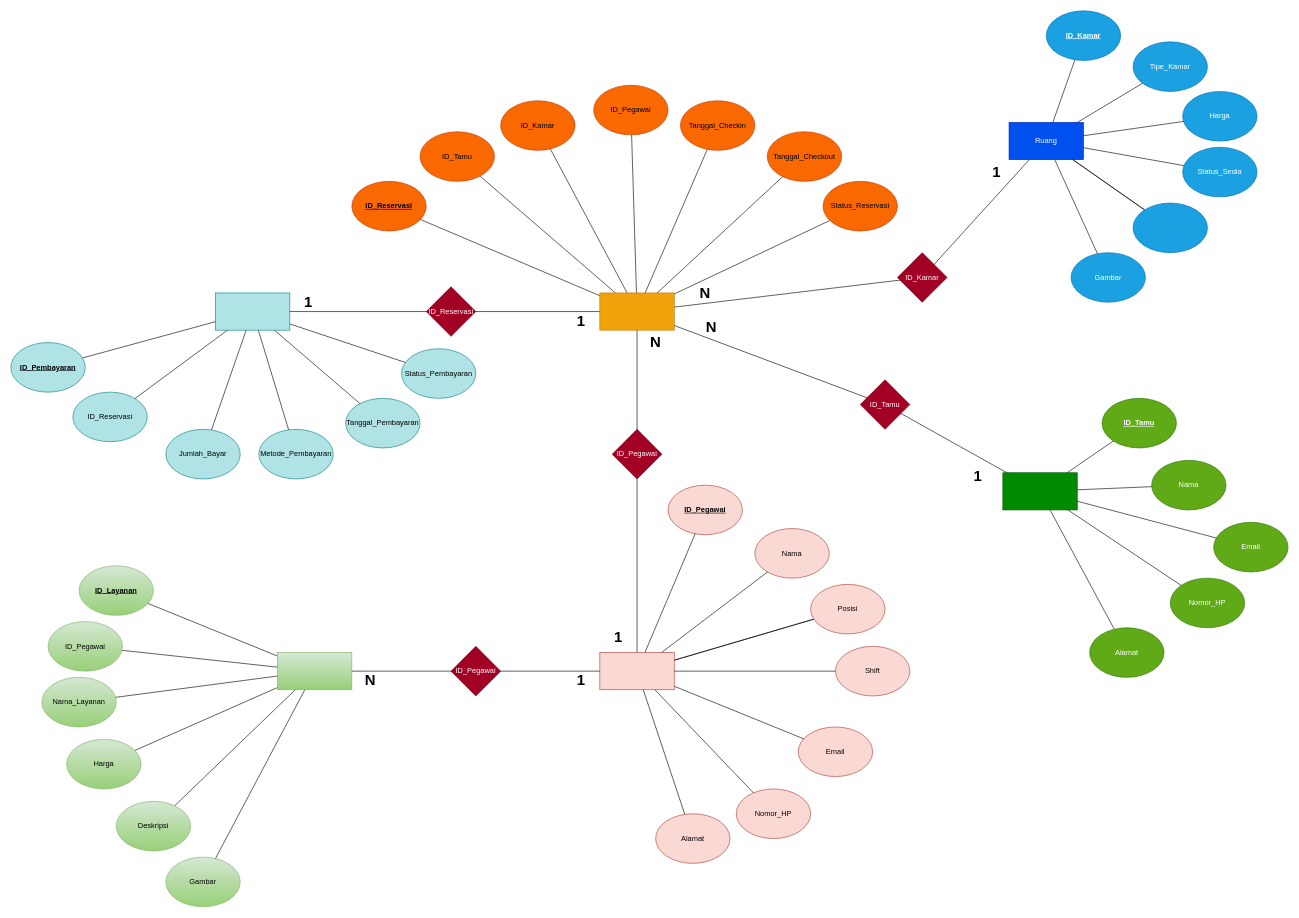
Some shapes in this 1299 by 918 pixel diagram are drawn without their labels. Each missing label, with the box of its shape:
Booking: (599, 292, 674, 330)
Jumlah_Bed: (1132, 202, 1207, 253)
Layanan_Tambahan: (277, 652, 352, 690)
Payment: (215, 292, 290, 330)
Pegawai: (599, 652, 674, 690)
Tamu: (1002, 472, 1077, 510)
